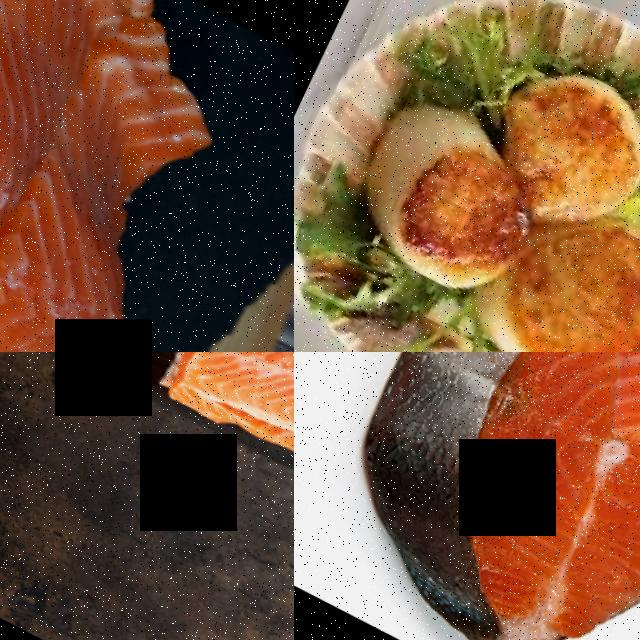salmon: (294, 352, 640, 640), (0, 0, 125, 352), (0, 150, 182, 352), (142, 352, 294, 464)
spinach: (349, 127, 547, 306), (485, 43, 640, 222), (482, 185, 640, 352)
